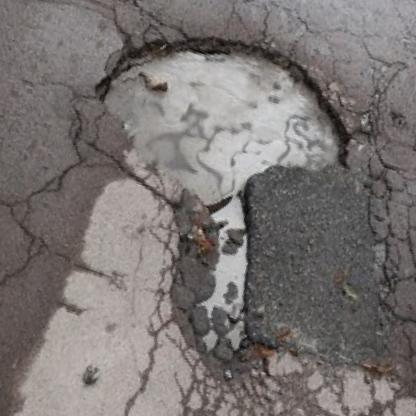pothole: (73, 1, 367, 242)
